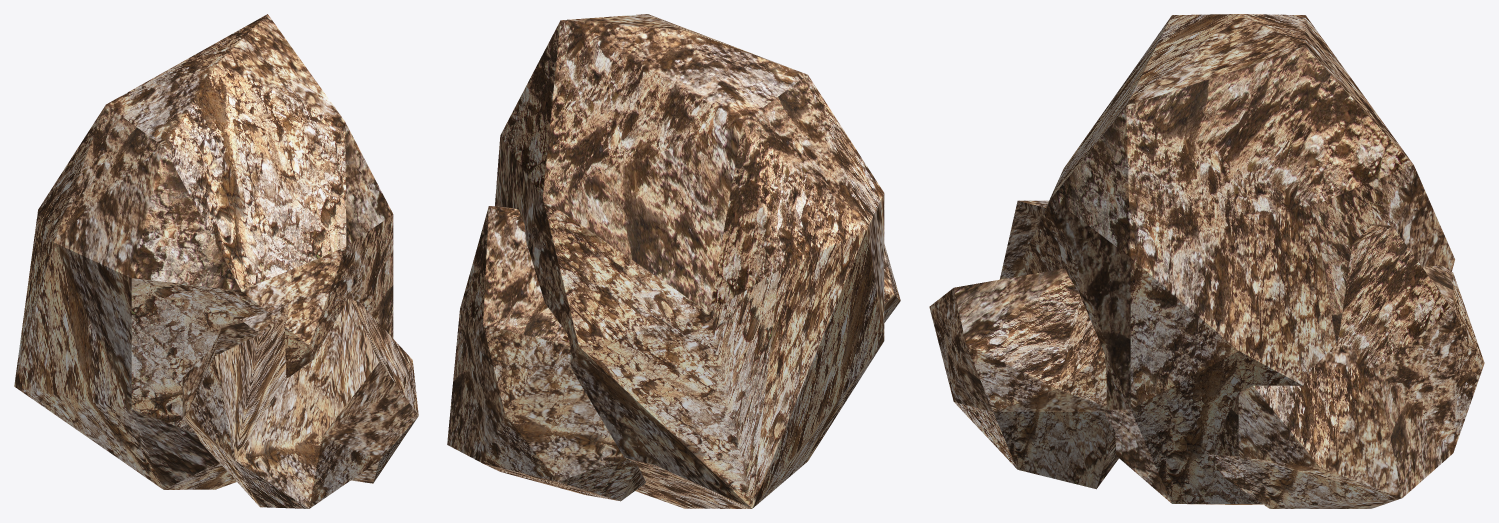
File: Rock3.FBX
3 renders of one model, left to right at view 1: azimuth 30°, elevation 25°; view 2: azimuth 150°, elevation 25°; view 3: azimuth 270°, elevation 25°, orthographic. The views are drawn at different scales.
Visible parts, largest first — view 1: Hedra001; view 2: Hedra001; view 3: Hedra001.
Boxes of the visible parts, x1,y1,x2,y2 form: Hedra001: [14, 14, 418, 508]; Hedra001: [447, 14, 900, 508]; Hedra001: [929, 14, 1484, 508].
Size of the model in its own units: 14.7 by 18.87 by 18.87.
